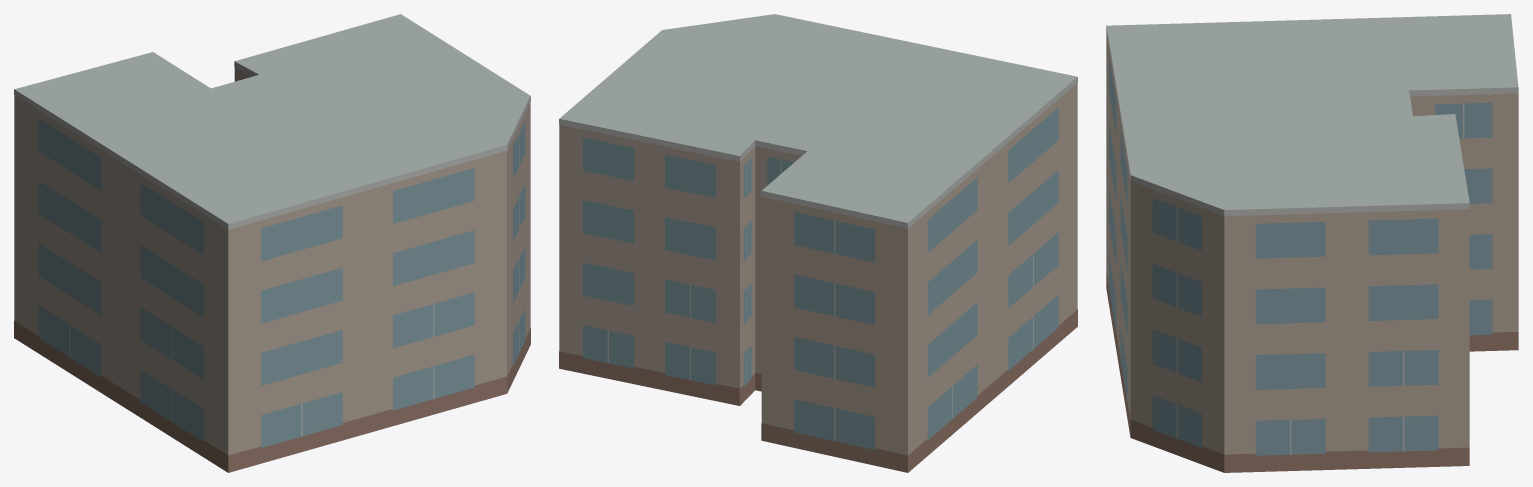
Rendered from survey-upis-32742155.glb.
3 renders of one model, left to right at view 1: azimuth 30°, elevation 25°; view 2: azimuth 150°, elevation 25°; view 3: azimuth 270°, elevation 25°, orthographic. The views are drawn at different scales.
Visible parts, largest first — view 1: survey-upis-32742155.tmp; view 2: survey-upis-32742155.tmp; view 3: survey-upis-32742155.tmp.
Boxes of the visible parts, bbox=[...] form: survey-upis-32742155.tmp: bbox=[14, 14, 530, 472]; survey-upis-32742155.tmp: bbox=[559, 14, 1077, 472]; survey-upis-32742155.tmp: bbox=[1106, 14, 1518, 472].
Bounding box in the file's own units: 16.82 × 10.5 × 14.93.
